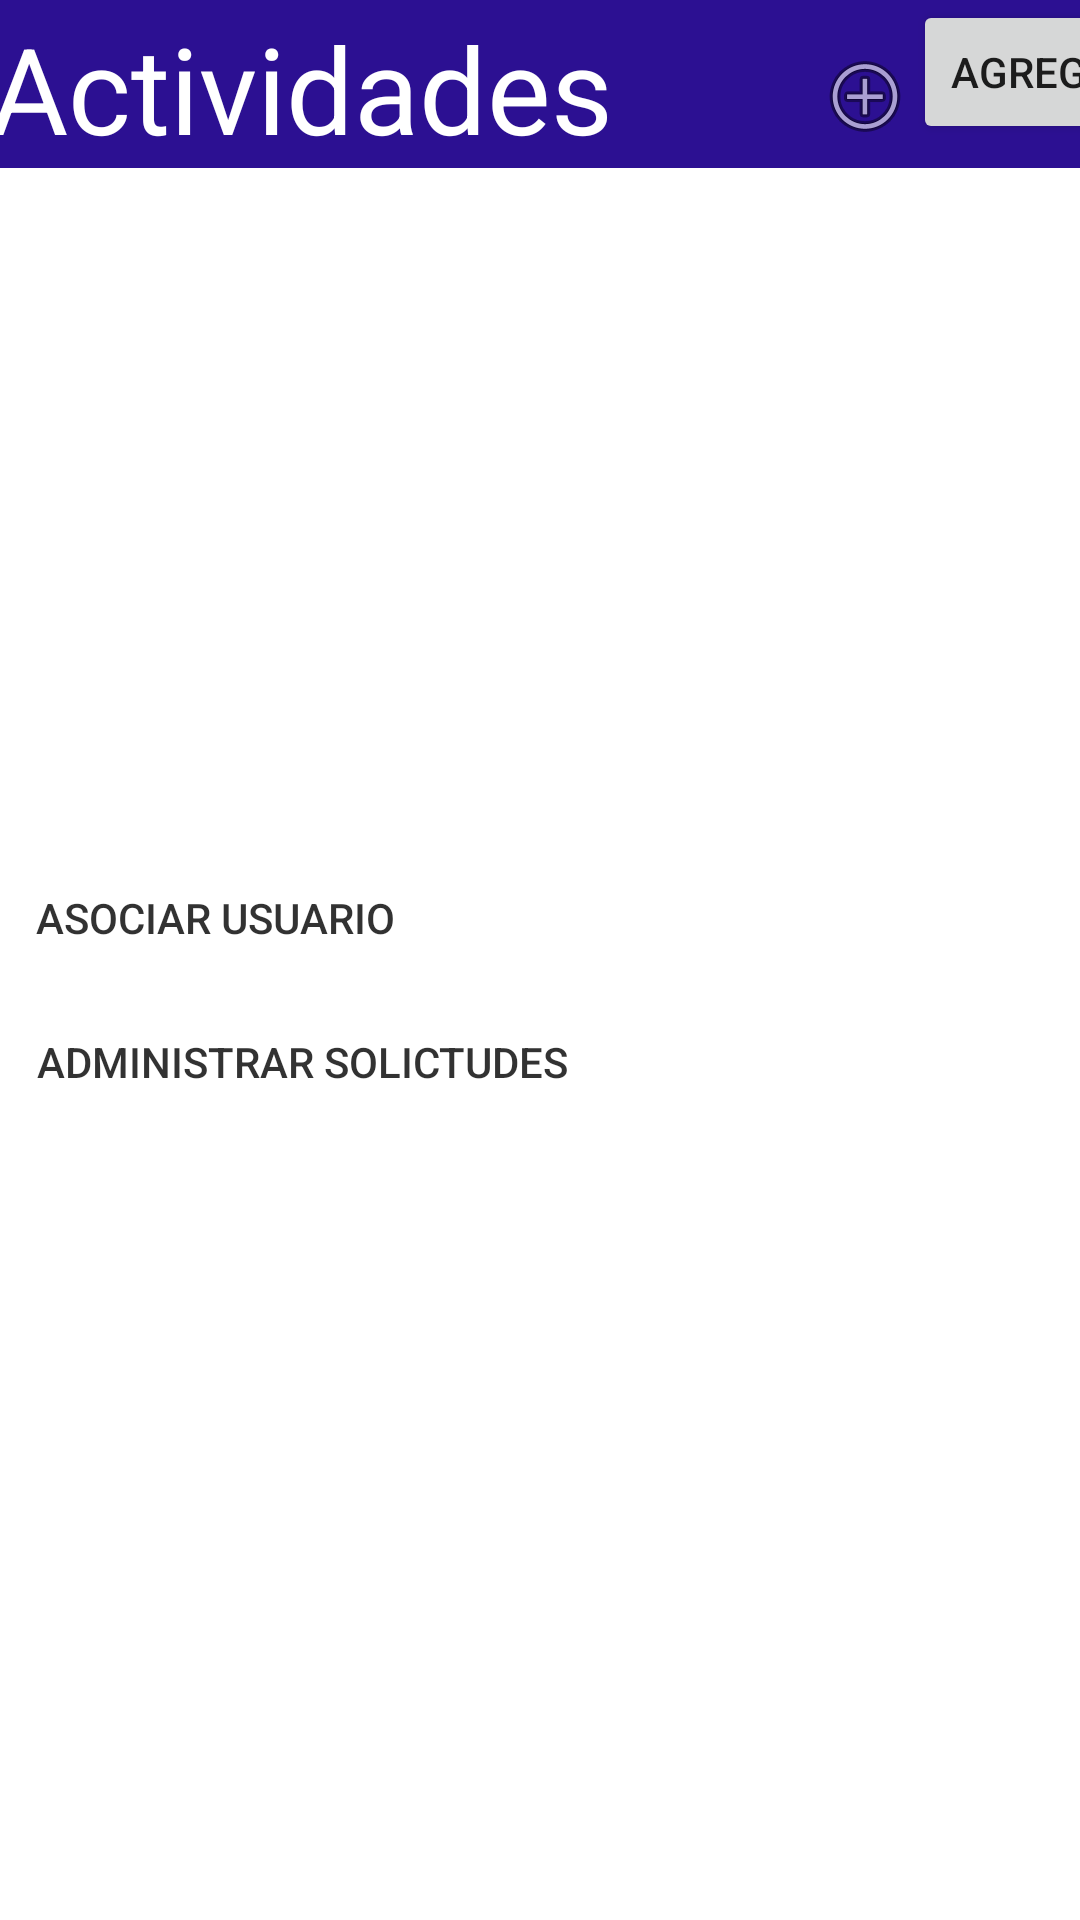

Named icons in this screenshot (1080px x 1920px) and their bounding boxes, (x1, y1, x2, y2):
add: (830, 61, 900, 132)
